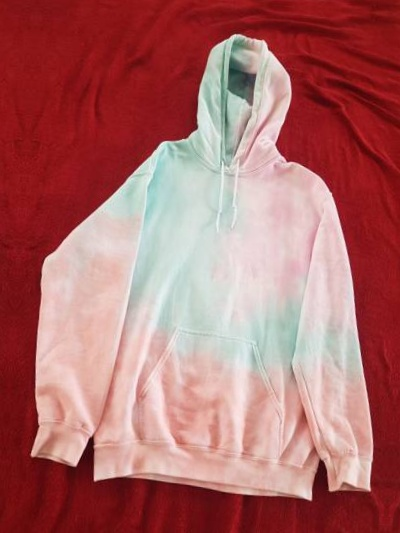Hoodie: (27, 25, 391, 515), (0, 0, 10, 487)
